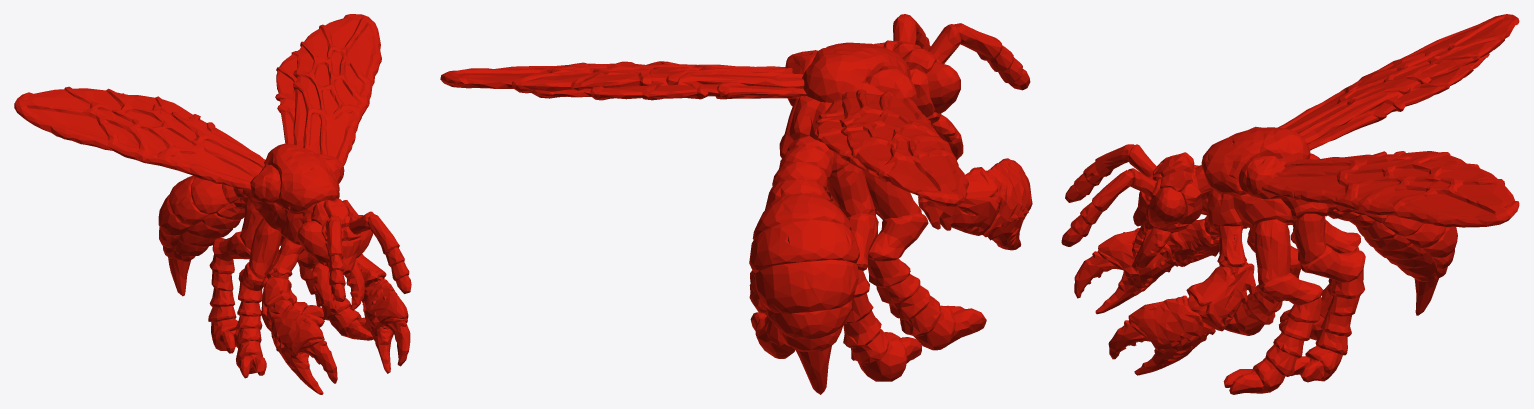
File: wasp.obj
The picture shows the model from 3 angles, left to right: view 1: azimuth 30°, elevation 25°; view 2: azimuth 150°, elevation 25°; view 3: azimuth 270°, elevation 25°; orthographic projection. The views are drawn at different scales.
Parts seen in each view (by area): view 1: wasp; view 2: wasp; view 3: wasp.
Boxes of the visible parts, x1,y1,x2,y2 form: wasp: (14,14,411,394); wasp: (440,14,1032,394); wasp: (1061,14,1519,394).
Size of the model in its own units: 2.89 by 1.73 by 2.76.
